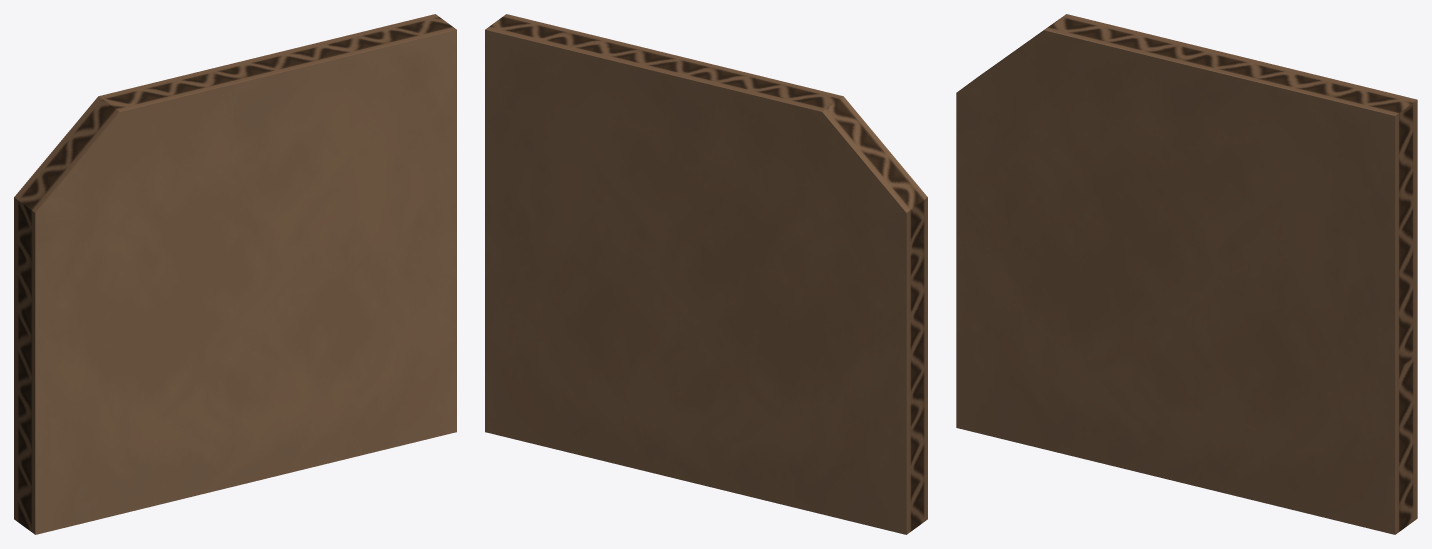
The model's file is BoxLeft.fbx.
3 renders of one model, left to right at view 1: azimuth 30°, elevation 25°; view 2: azimuth 150°, elevation 25°; view 3: azimuth 330°, elevation 25°, orthographic. The views are drawn at different scales.
Visible parts, largest first — view 1: BoxLeft; view 2: BoxLeft; view 3: BoxLeft.
Boxes of the visible parts, x1,y1,x2,y2 form: BoxLeft: [14, 14, 456, 534]; BoxLeft: [485, 14, 927, 534]; BoxLeft: [956, 14, 1417, 534].
Size of the model in its own units: 2 by 1.82 by 0.1763.
